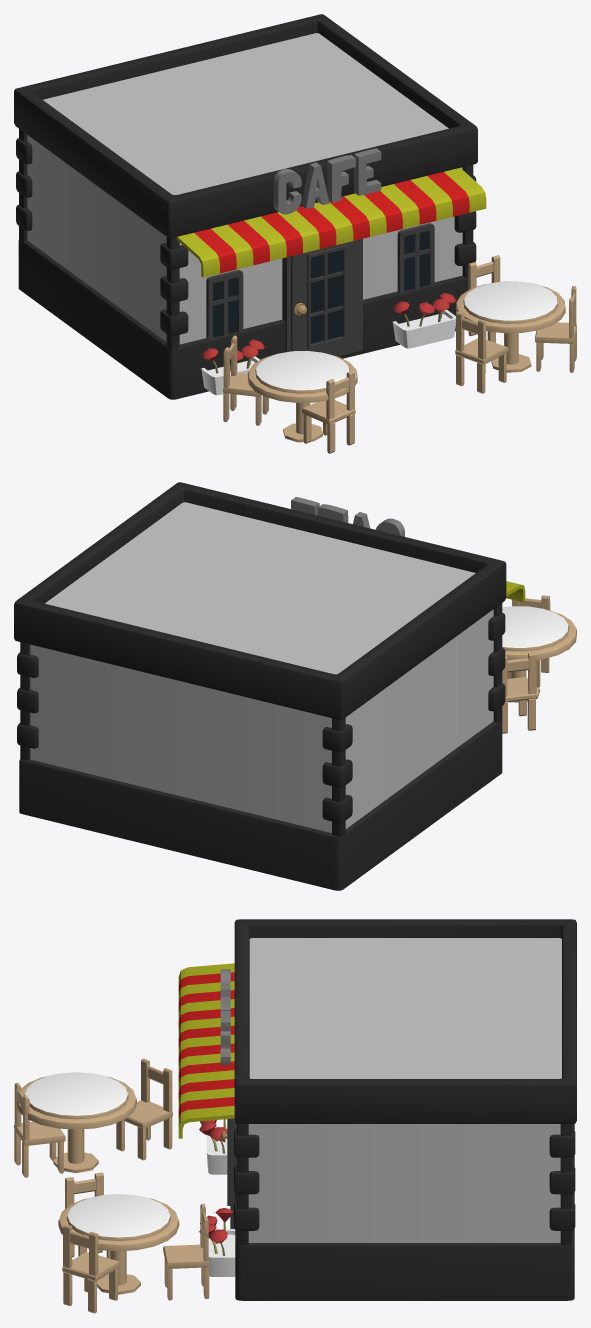
The model's file is SM_cafe.fbx.
3 renders of one model, top to bottom at view 1: azimuth 30°, elevation 25°; view 2: azimuth 150°, elevation 25°; view 3: azimuth 270°, elevation 25°, orthographic. The views are drawn at different scales.
Visible parts, largest first — view 1: Box076; view 2: Box076; view 3: Box076.
Part boxes in pixels (x1,y1,x2,y2): Box076: (14,14,576,453); Box076: (14,482,576,890); Box076: (14,919,576,1313).
Bounding box in the file's own units: 225 × 129 × 291.
